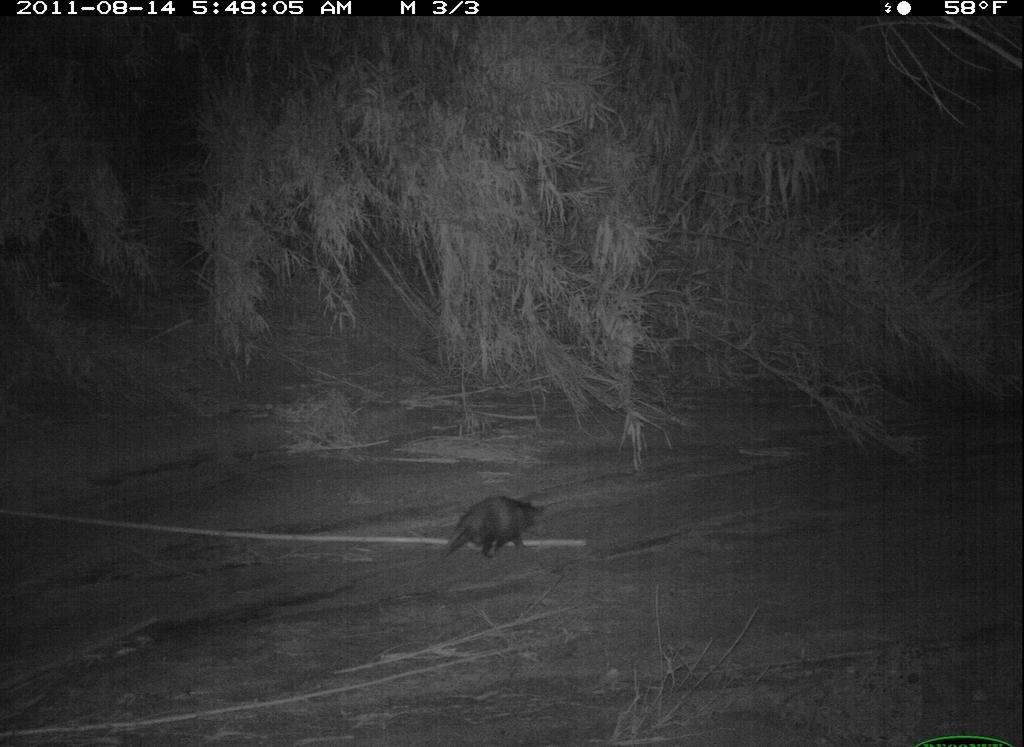opossum: (424, 488, 556, 571)
